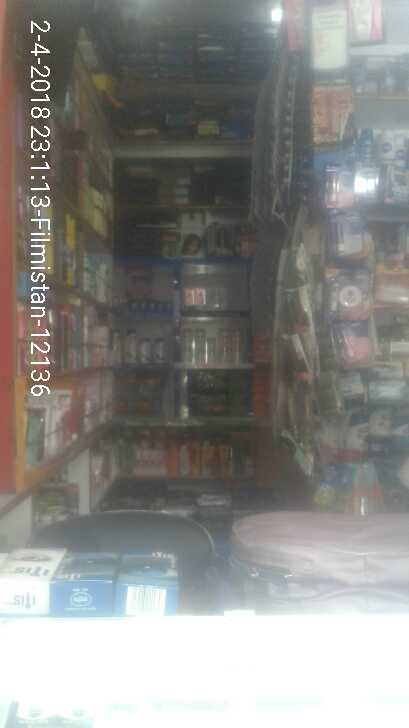vicks: (125, 295, 184, 317)
